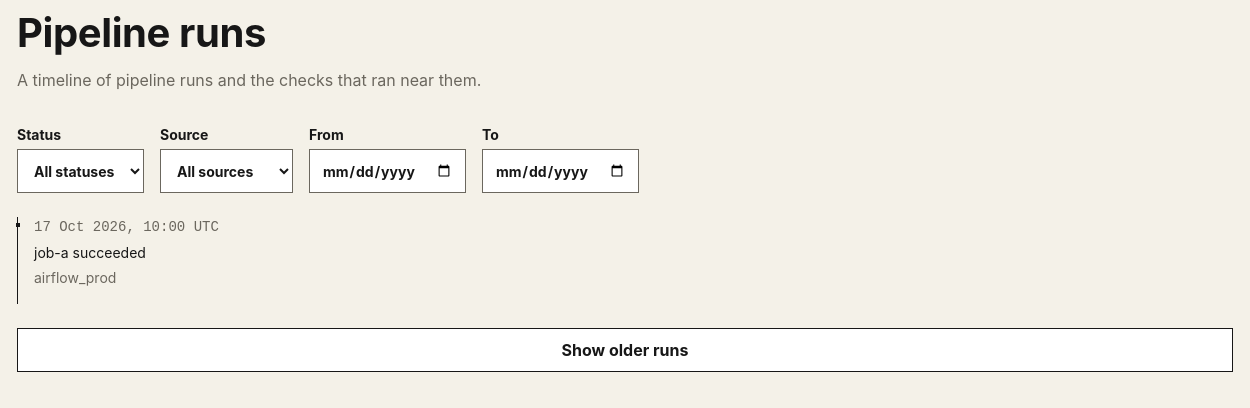
Test: Pipeline runs page › appends older runs and hides the button on the last page
Expected: the text "job-a succeeded" is shown, [34,244,146,261]
Click the button "Show older runs": (625, 350) [17,328,1233,372]
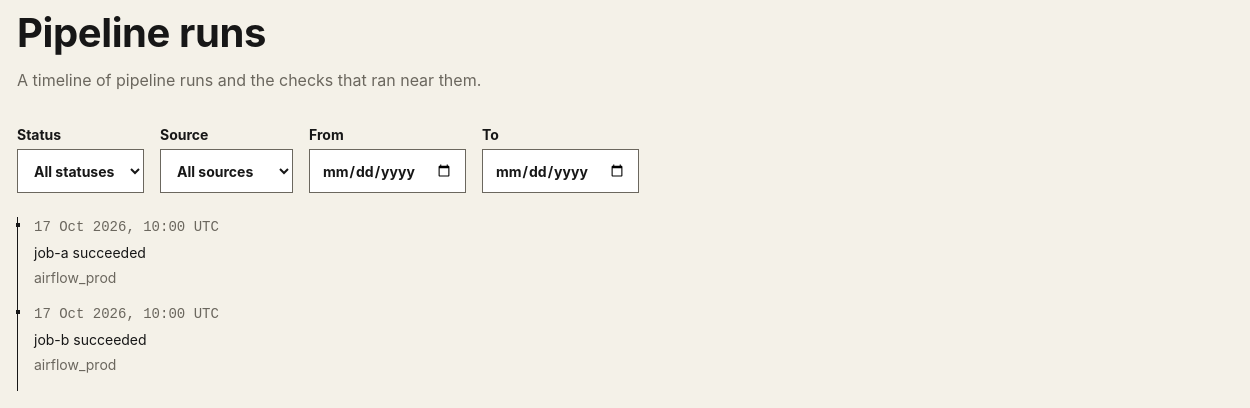
Expected: the text "job-a succeeded" is shown, [34,244,146,261]
Now the text "job-b succeeded" is shown, box [34,331,147,348]
Now the button "Show older runs" is gone
